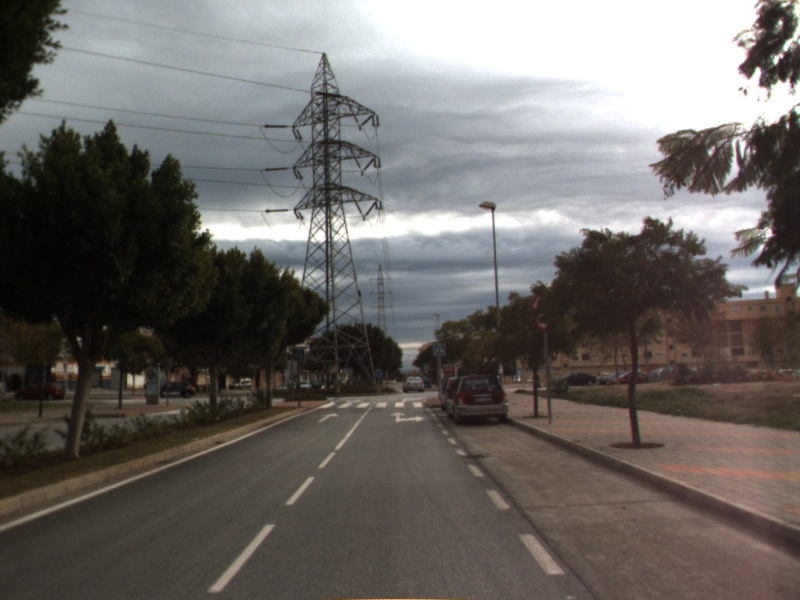STRAIGHT: (315, 411, 340, 424)
STRAIGHT_RIGHT: (388, 410, 427, 424)
